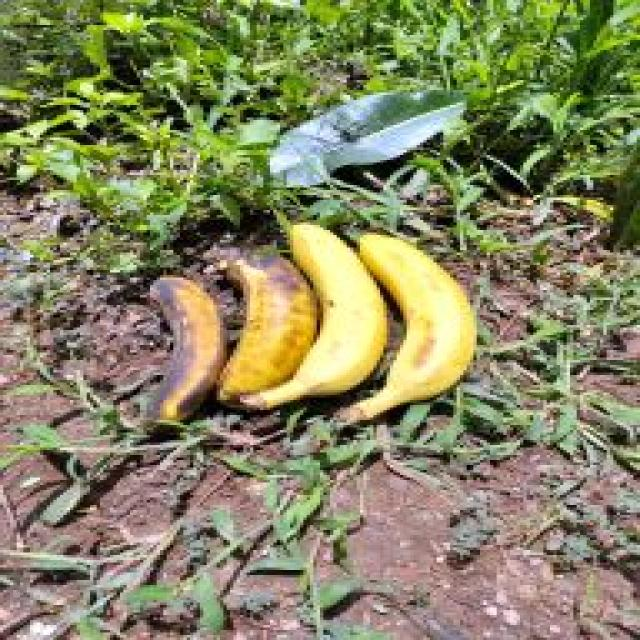Organik: (348, 221, 506, 420), (256, 207, 388, 414), (105, 262, 221, 433), (198, 232, 306, 397)
